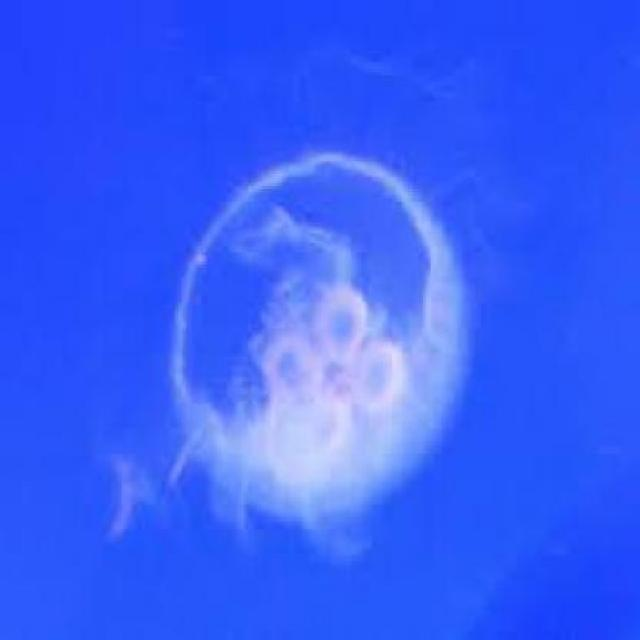Jellyfish: (92, 142, 476, 564)
